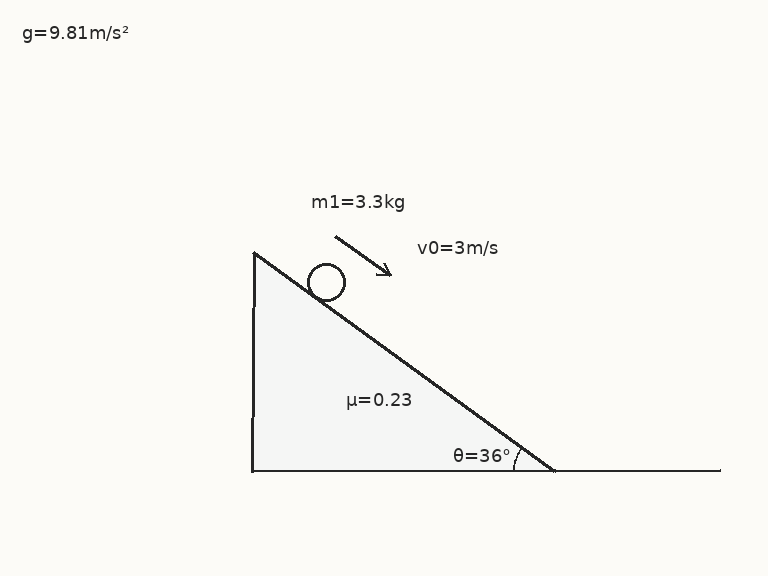ball: (305, 261, 347, 303)
ramp: (251, 250, 556, 473)
